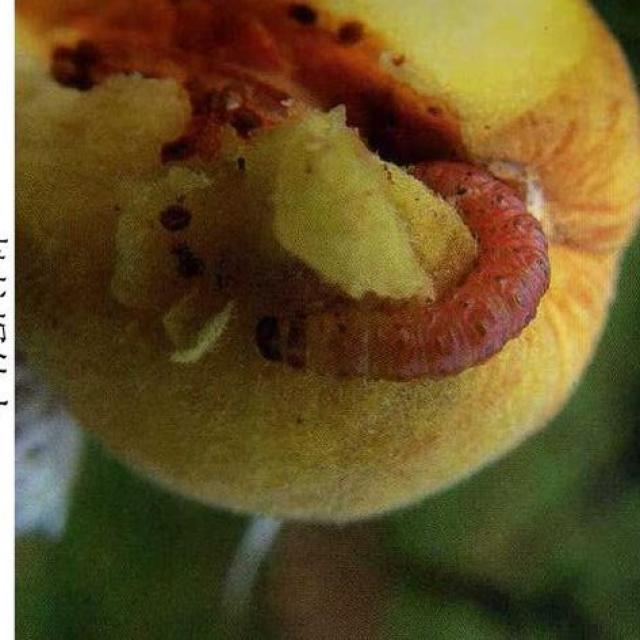peach borer: (208, 157, 554, 398)
